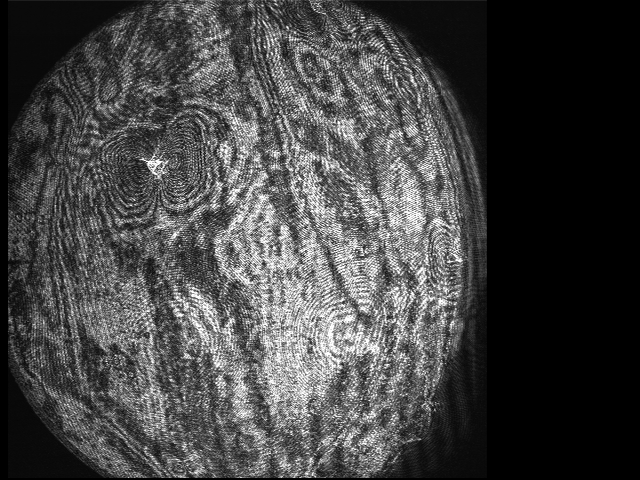plume: (102, 118, 215, 224)
